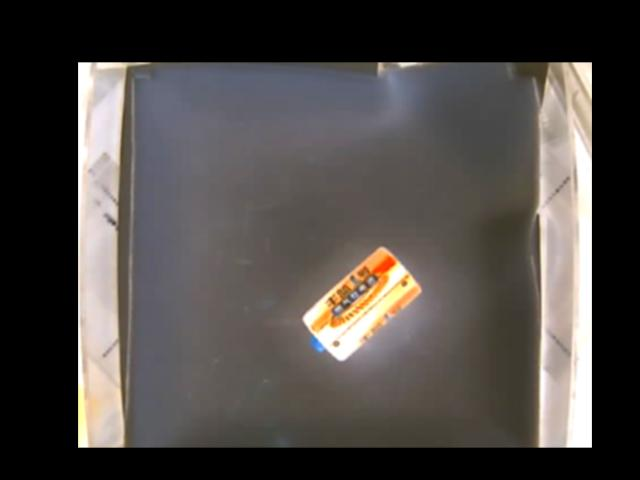Battery: (301, 246, 421, 361)
